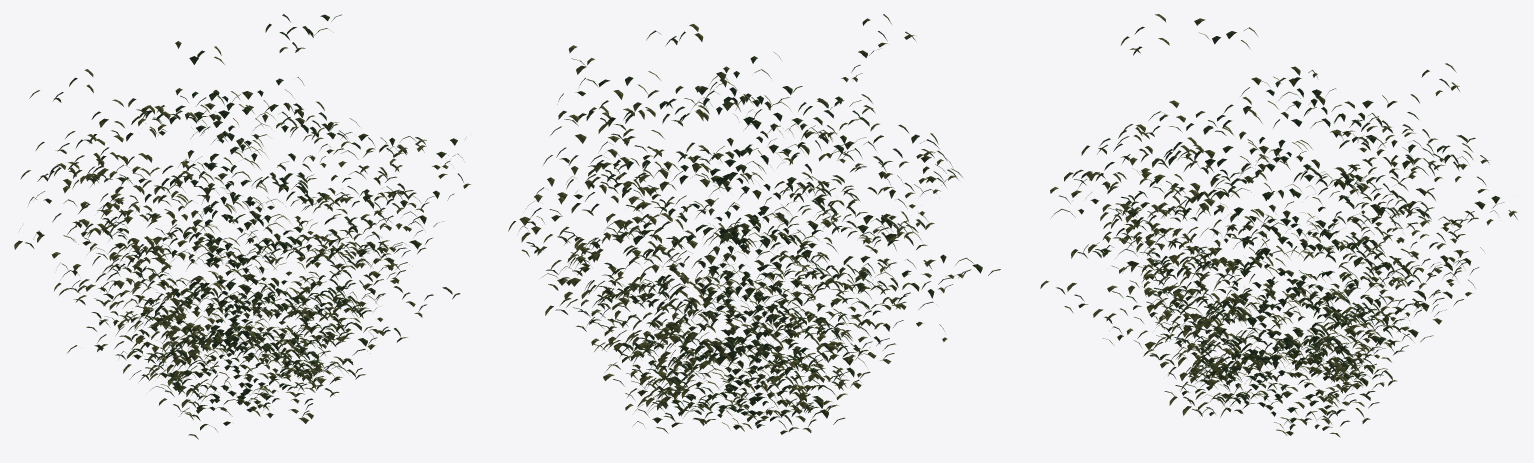
The model's file is leaves.glb.
3 renders of one model, left to right at view 1: azimuth 30°, elevation 25°; view 2: azimuth 150°, elevation 25°; view 3: azimuth 270°, elevation 25°, orthographic. The views are drawn at different scales.
Visible parts, largest first — view 1: leaves; view 2: leaves; view 3: leaves.
Part boxes in pixels (x1=…): leaves: x1=14, y1=14, x2=470, y2=439; leaves: x1=508, y1=14, x2=1000, y2=434; leaves: x1=1040, y1=14, x2=1517, y2=437.
Bounding box in the file's own units: 2.72 × 2.37 × 2.73.
